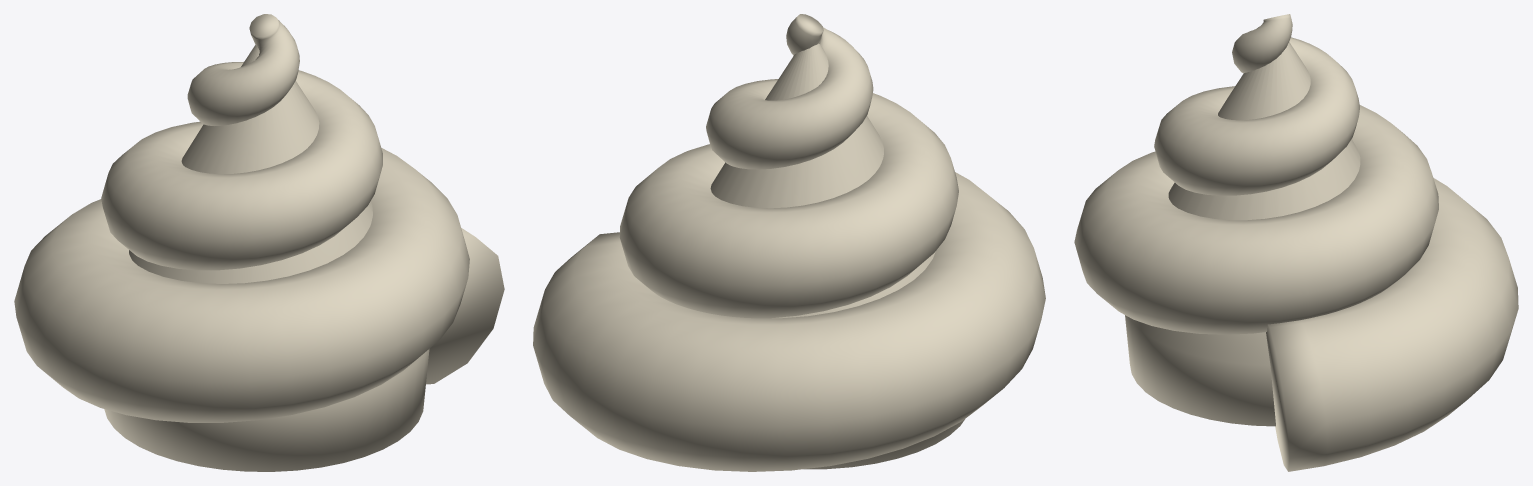
File: Whipped_cream_serving_layer.fbx
The picture shows the model from 3 angles, left to right: view 1: azimuth 30°, elevation 25°; view 2: azimuth 150°, elevation 25°; view 3: azimuth 270°, elevation 25°; orthographic projection. The views are drawn at different scales.
Parts seen in each view (by area): view 1: Toon_Whipped_cream_serving_layer Piped cream spiral.001, Toon_Whipped_cream_serving_layer Soft cream center.001; view 2: Toon_Whipped_cream_serving_layer Piped cream spiral.001, Toon_Whipped_cream_serving_layer Soft cream center.001; view 3: Toon_Whipped_cream_serving_layer Piped cream spiral.001, Toon_Whipped_cream_serving_layer Soft cream center.001.
Part boxes in pixels (x1,y1,x2,y2): Toon_Whipped_cream_serving_layer Piped cream spiral.001: [14, 14, 504, 422]; Toon_Whipped_cream_serving_layer Soft cream center.001: [104, 45, 429, 471]; Toon_Whipped_cream_serving_layer Piped cream spiral.001: [533, 14, 1045, 471]; Toon_Whipped_cream_serving_layer Soft cream center.001: [710, 43, 964, 469]; Toon_Whipped_cream_serving_layer Piped cream spiral.001: [1074, 14, 1518, 471]; Toon_Whipped_cream_serving_layer Soft cream center.001: [1125, 42, 1360, 426].
Size of the model in its own units: 7.57 by 6.5 by 6.95.
